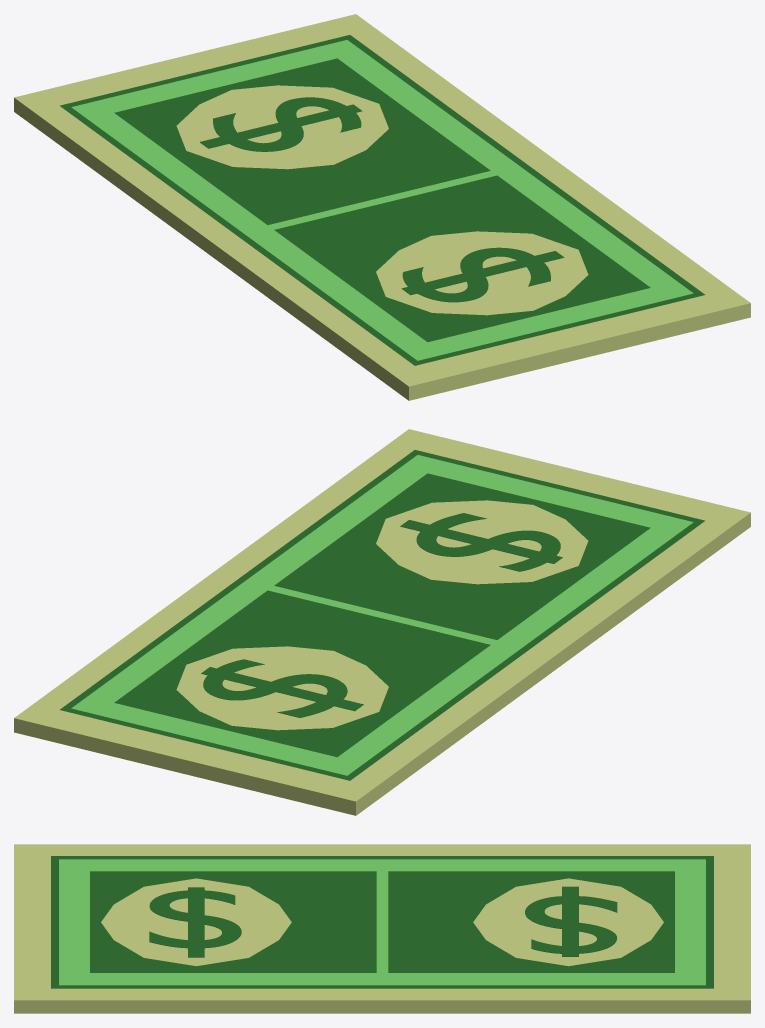
File: Money Bill.fbx
3 views of the same model, one above another, from view 1: azimuth 30°, elevation 25°; view 2: azimuth 150°, elevation 25°; view 3: azimuth 270°, elevation 25° (orthographic). The views are drawn at different scales.
Visible parts, largest first — view 1: Money Bill; view 2: Money Bill; view 3: Money Bill.
Part boxes in pixels (box(x1,y1,x2,y2)): Money Bill: box(14, 14, 750, 400); Money Bill: box(14, 429, 750, 815); Money Bill: box(14, 844, 750, 1013).
Size of the model in its own units: 0.5 by 0.0208 by 1.
